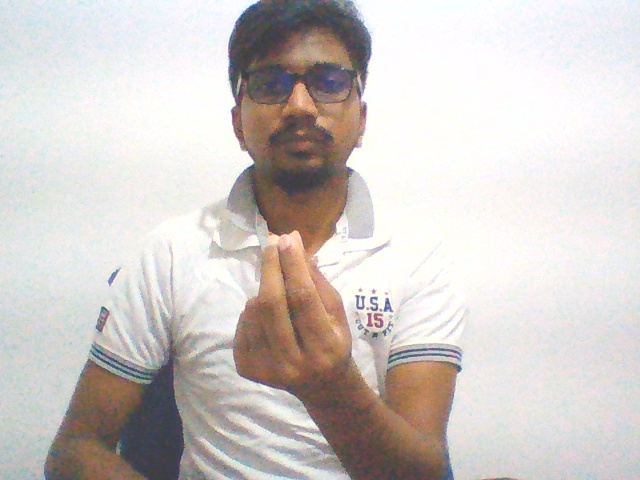dog: (223, 226, 364, 403)
